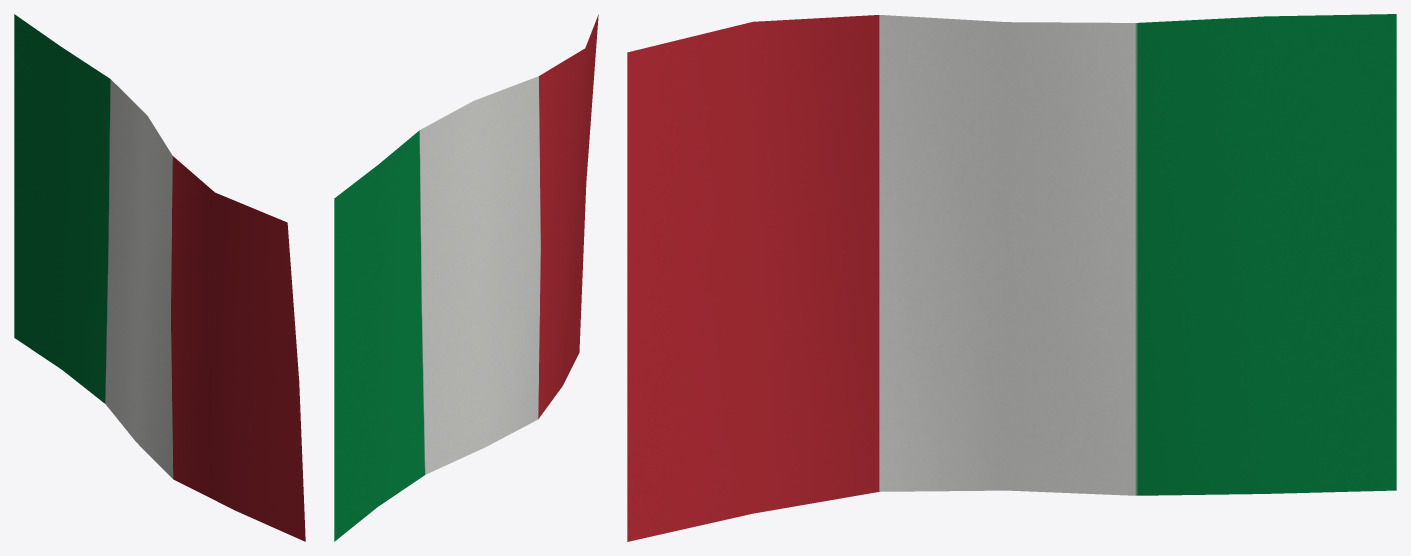
File: SM_Morin_Bandiera_Italia_LOD1.fbx
3 renders of one model, left to right at view 1: azimuth 30°, elevation 25°; view 2: azimuth 150°, elevation 25°; view 3: azimuth 270°, elevation 25°, orthographic. The views are drawn at different scales.
Parts seen in each view (by area): view 1: SM_Morin_Bandiera_Italia_LOD1; view 2: SM_Morin_Bandiera_Italia_LOD1; view 3: SM_Morin_Bandiera_Italia_LOD1.
Boxes of the visible parts, box(x1,y1,x2,y2) form: SM_Morin_Bandiera_Italia_LOD1: box(14, 14, 305, 541); SM_Morin_Bandiera_Italia_LOD1: box(334, 14, 598, 541); SM_Morin_Bandiera_Italia_LOD1: box(627, 14, 1396, 541).
Bounding box in the file's own units: 25.42 × 234 × 170.
1 material, 1 textured.
